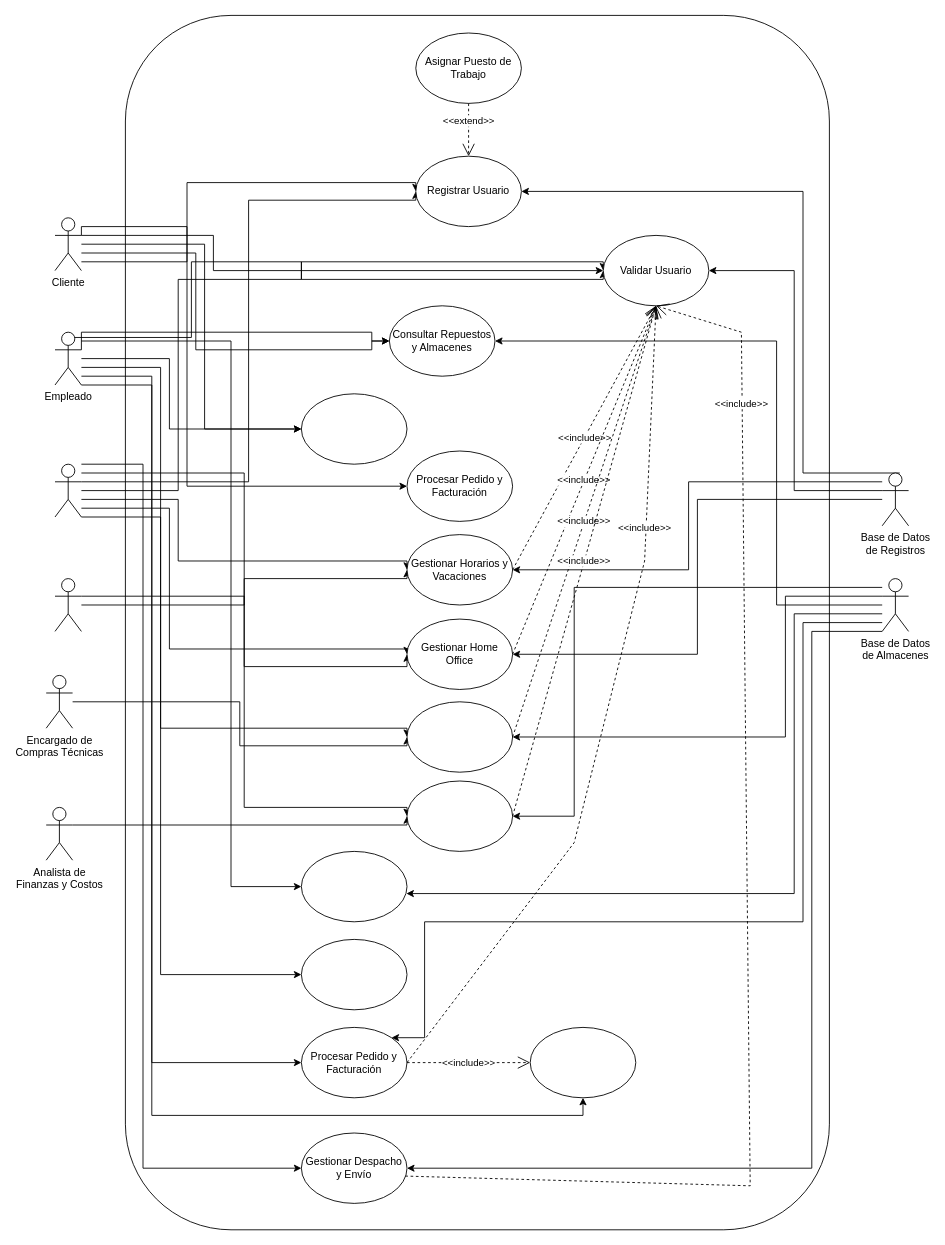
This 945x1245 diagram has some shape labels left out. The shapes that lost their labels are listed below. From the top down, each one's centre as x and y in pixels, then its label:
point (354, 428): Consultar Recibos
point (67, 490): Admin
point (67, 604): Personal de Recursos Humanos
point (459, 736): Registrar Compra a Proveedor
point (459, 815): Gestionar Costos y Márgenes
point (354, 886): Consultar Stock
point (354, 974): Registrar Venta
point (582, 1062): Generar Recibo
